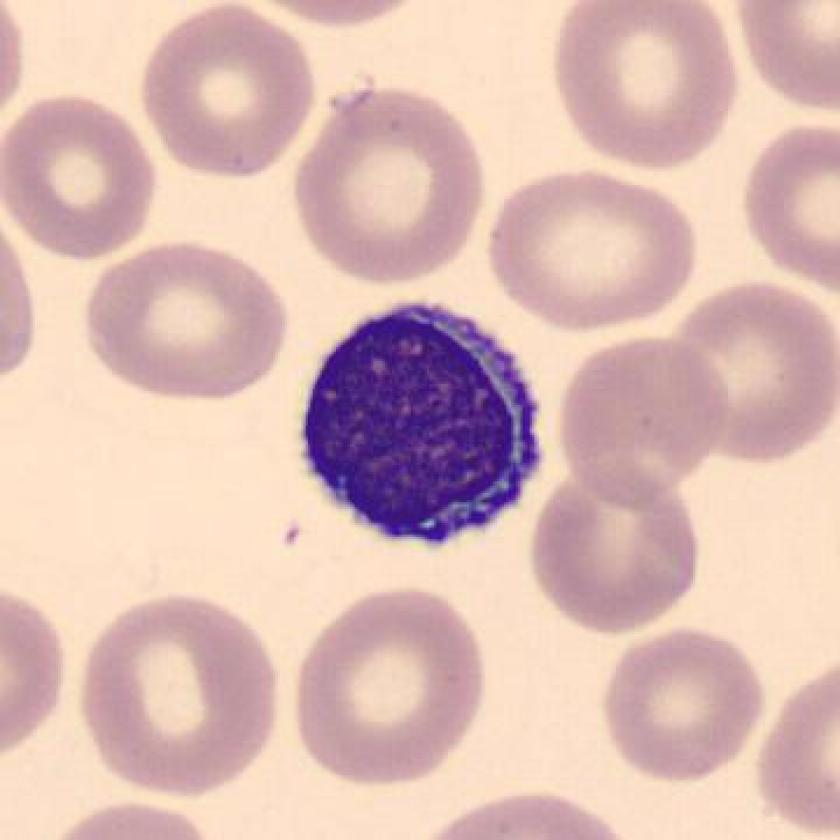lymphocyte: (288, 288, 566, 566)
